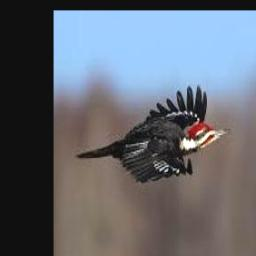Woodpecker: (76, 84, 231, 183)
